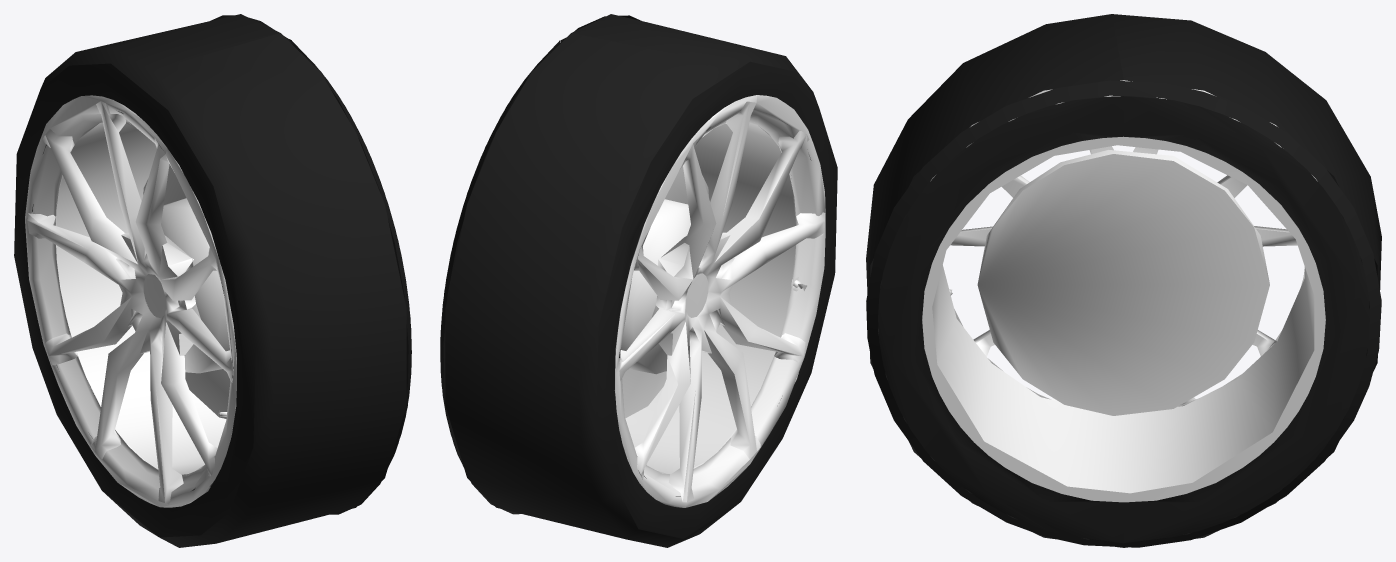
File: lamborghini_hurrican_wheel.obj
3 views of the same model, side by side, from view 1: azimuth 30°, elevation 25°; view 2: azimuth 150°, elevation 25°; view 3: azimuth 270°, elevation 25° (orthographic).
Visible parts, largest first — view 1: lamborghini_hurrican_wheel_chassis.008; view 2: lamborghini_hurrican_wheel_chassis.008; view 3: lamborghini_hurrican_wheel_chassis.008.
Part boxes in pixels (<box>): lamborghini_hurrican_wheel_chassis.008: <box>14,14,411,547</box>; lamborghini_hurrican_wheel_chassis.008: <box>440,14,837,547</box>; lamborghini_hurrican_wheel_chassis.008: <box>866,14,1381,547</box>.
Size of the model in its own units: 0.2523 by 0.6833 by 0.6833.
